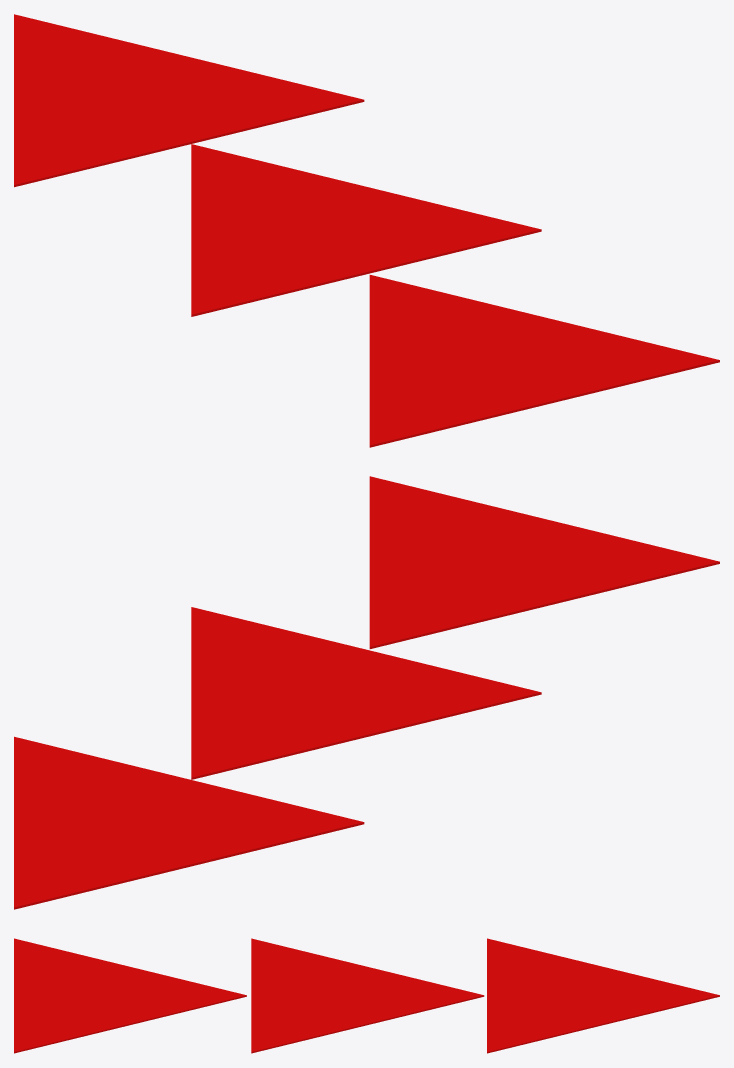
Rendered from AttackArrow.fbx.
3 renders of one model, top to bottom at view 1: azimuth 30°, elevation 25°; view 2: azimuth 150°, elevation 25°; view 3: azimuth 270°, elevation 25°, orthographic. The views are drawn at different scales.
Visible parts, largest first — view 1: pPrism4; view 2: pPrism4; view 3: pPrism4.
Boxes of the visible parts, x1,y1,x2,y2 form: pPrism4: [14, 14, 719, 447]; pPrism4: [14, 476, 719, 909]; pPrism4: [14, 938, 719, 1053].
Size of the model in its own units: 1 by 0.006 by 2.63.
